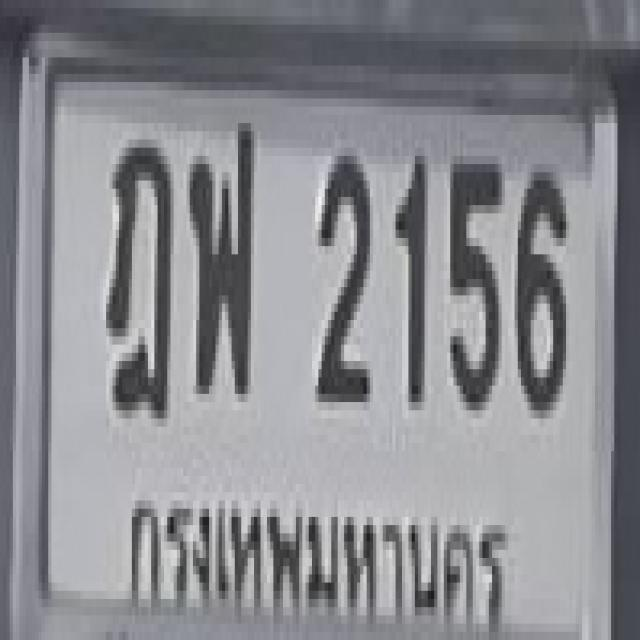1: (392, 148, 430, 412)
2: (314, 148, 374, 408)
5: (447, 156, 502, 409)
6: (515, 164, 569, 422)
A14: (103, 131, 174, 429)
A31: (187, 111, 254, 400)
BKK: (115, 476, 521, 640)
